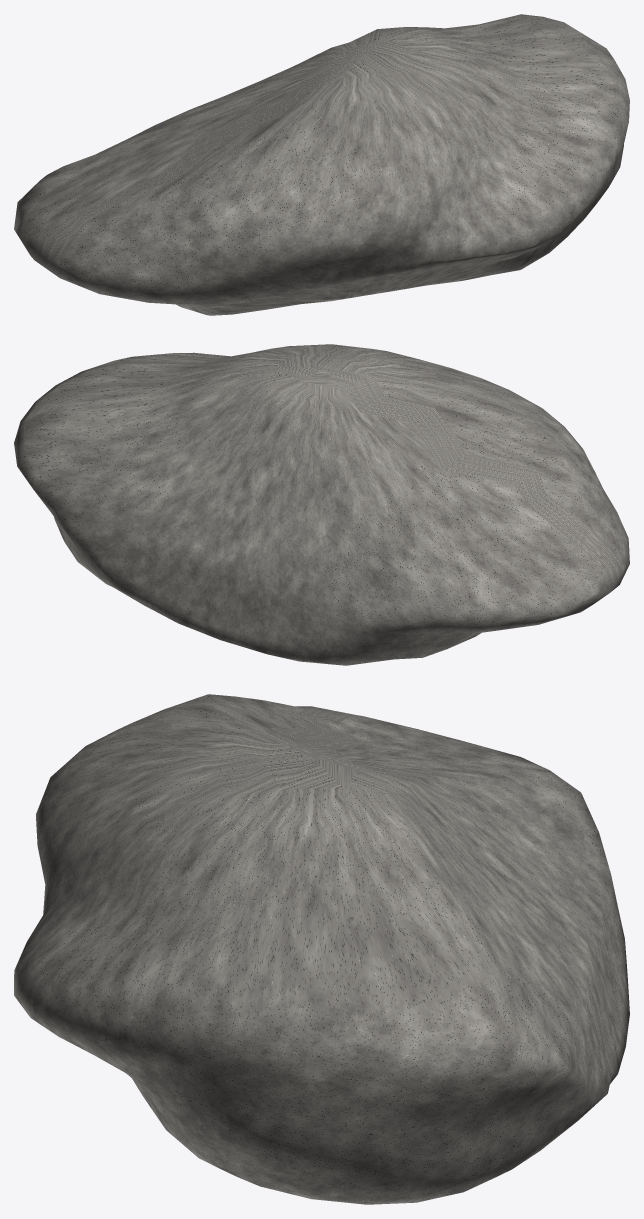
The model's file is obstacle_big_6.dae.
The picture shows the model from 3 angles, top to bottom: view 1: azimuth 30°, elevation 25°; view 2: azimuth 150°, elevation 25°; view 3: azimuth 270°, elevation 25°; orthographic projection. The views are drawn at different scales.
Visible parts, largest first — view 1: obstacle_big_6; view 2: obstacle_big_6; view 3: obstacle_big_6.
Boxes of the visible parts, bbox=[...] form: obstacle_big_6: bbox=[14, 14, 629, 315]; obstacle_big_6: bbox=[14, 344, 629, 665]; obstacle_big_6: bbox=[14, 694, 629, 1204].
Bounding box in the file's own units: 1 × 0.6379 × 0.3549.
Materials: 1 (1 with a texture image).
